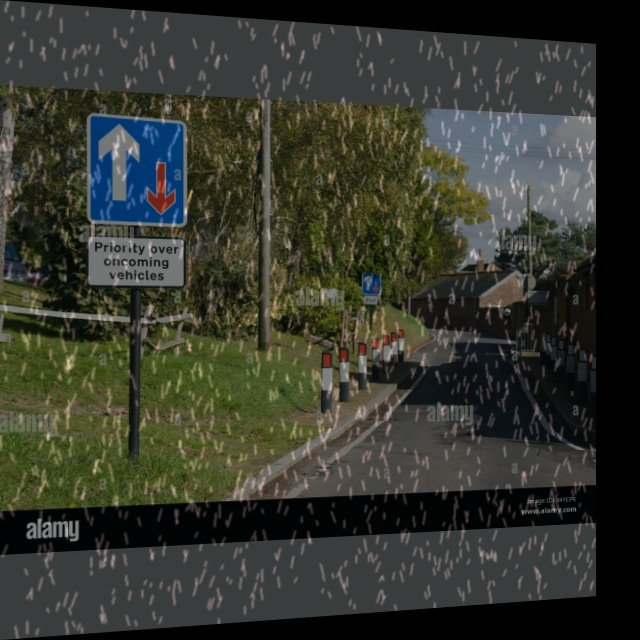Priority_for_Oncoming_Traffic: (90, 115, 187, 226)
